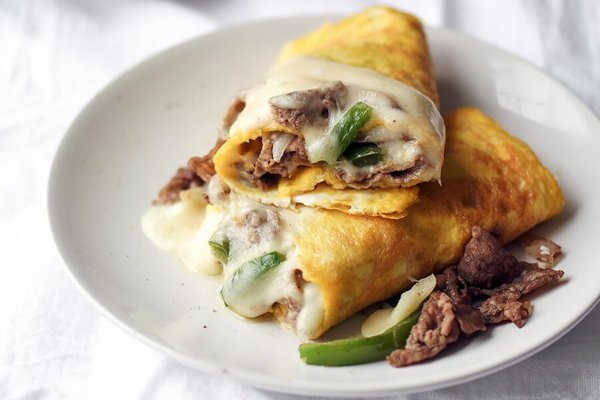soup: (149, 9, 578, 344)
